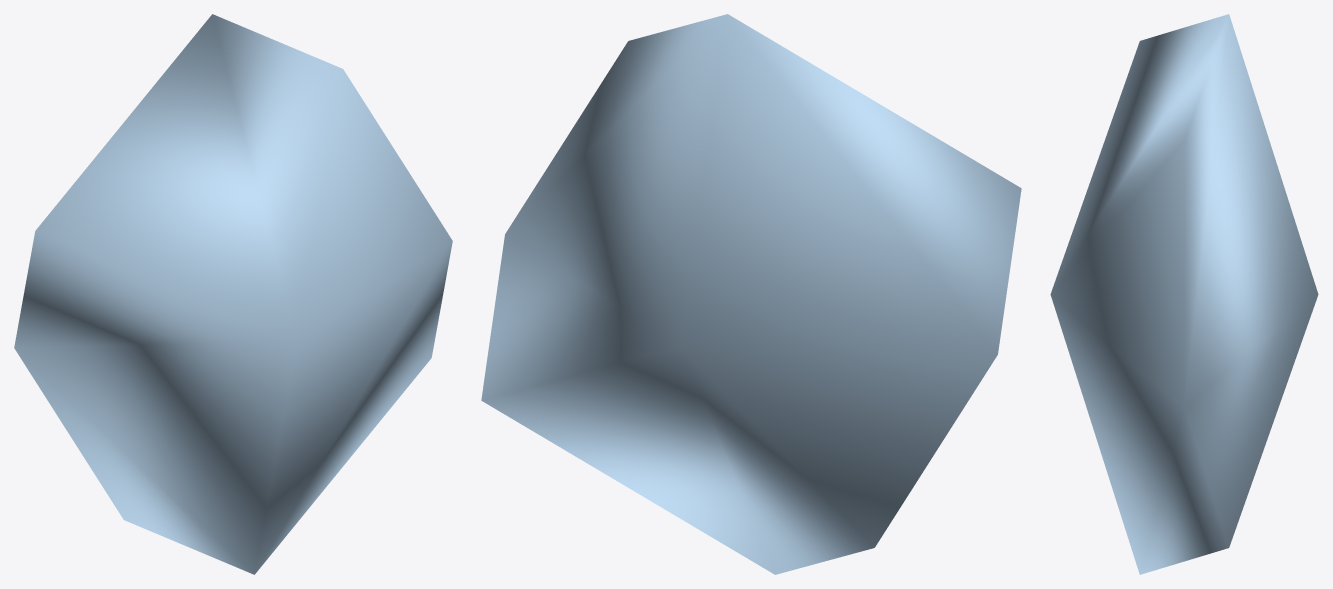
File: rhodochrosite.glb
The picture shows the model from 3 angles, left to right: view 1: azimuth 30°, elevation 25°; view 2: azimuth 150°, elevation 25°; view 3: azimuth 270°, elevation 25°; orthographic projection. The views are drawn at different scales.
Visible parts, largest first — view 1: rhodochrosite; view 2: rhodochrosite; view 3: rhodochrosite.
Boxes of the visible parts, x1,y1,x2,y2 form: rhodochrosite: (14,14,452,574); rhodochrosite: (481,14,1021,574); rhodochrosite: (1050,14,1318,574).
Size of the model in its own units: 1.39 by 1.6 by 0.6928.
